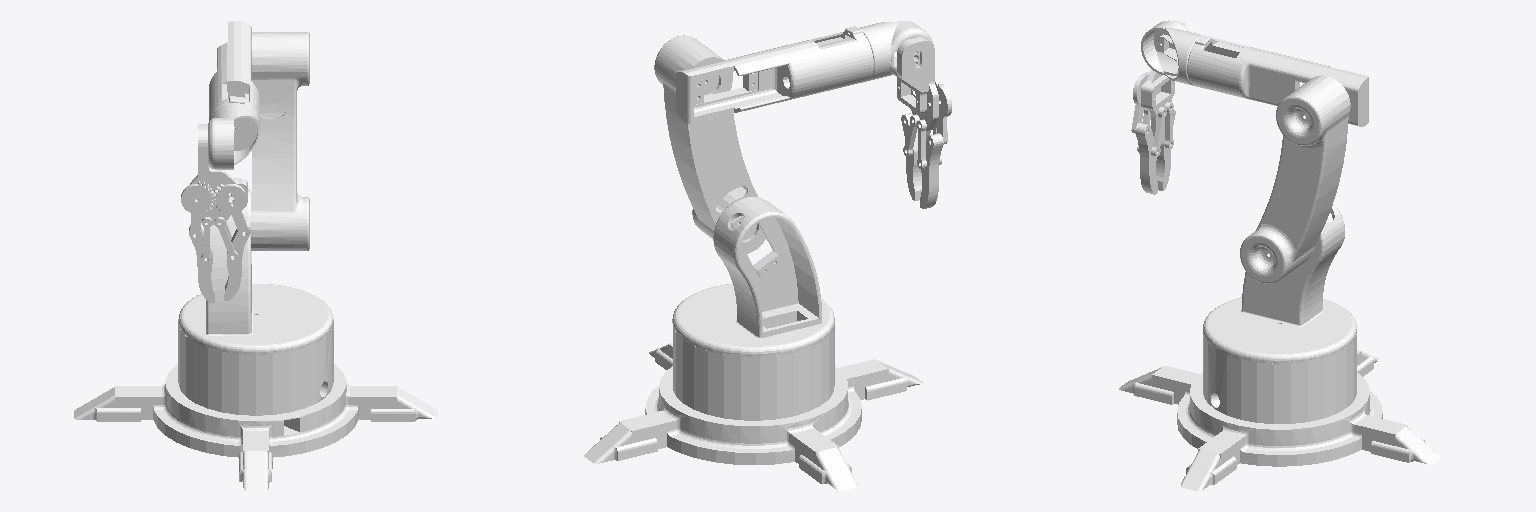
The robot description file, URDF, robot "Small_Robot_Arm_URDF":
<?xml version="1.0" encoding="utf-8"?>
<!-- This URDF was automatically created by SolidWorks to URDF Exporter! Originally created by Stephen Brawner (brawner@gmail.com) 
     Commit Version: 1.6.0-4-g7f85cfe  Build Version: 1.6.7995.38578
     For more information, please see http://wiki.ros.org/sw_urdf_exporter -->
<robot
  name="Small_Robot_Arm_URDF">
  <link
    name="base_link">
    <inertial>
      <origin
        xyz="0.7593 0.88191 1.2952"
        rpy="0 0 0" />
      <mass
        value="0.54304" />
      <inertia
        ixx="0.0012059"
        ixy="2.3772E-06"
        ixz="1.0338E-05"
        iyy="0.0019295"
        iyz="-4.0417E-06"
        izz="0.0012054" />
    </inertial>
    <visual>
      <origin
        xyz="0 0 0"
        rpy="0 0 0" />
      <geometry>
        <mesh
          filename="package://Small_Robot_Arm_URDF/meshes/base_link.STL" />
      </geometry>
      <material
        name="">
        <color
          rgba="1 1 1 1" />
      </material>
    </visual>
    <collision>
      <origin
        xyz="0 0 0"
        rpy="0 0 0" />
      <geometry>
        <mesh
          filename="package://Small_Robot_Arm_URDF/meshes/base_link.STL" />
      </geometry>
    </collision>
  </link>
  <link
    name="Link_1">
    <inertial>
      <origin
        xyz="-0.0019787 0.025514 0.0084214"
        rpy="0 0 0" />
      <mass
        value="0.12114" />
      <inertia
        ixx="0.00021364"
        ixy="2.5644E-05"
        ixz="-2.5895E-07"
        iyy="0.00017429"
        iyz="9.3726E-06"
        izz="0.00020171" />
    </inertial>
    <visual>
      <origin
        xyz="0 0 0"
        rpy="0 0 0" />
      <geometry>
        <mesh
          filename="package://Small_Robot_Arm_URDF/meshes/Link_1.STL" />
      </geometry>
      <material
        name="">
        <color
          rgba="1 1 1 1" />
      </material>
    </visual>
    <collision>
      <origin
        xyz="0 0 0"
        rpy="0 0 0" />
      <geometry>
        <mesh
          filename="package://Small_Robot_Arm_URDF/meshes/Link_1.STL" />
      </geometry>
    </collision>
  </link>
  <joint
    name="Joint_0"
    type="revolute">
    <origin
      xyz="0.76061 -1.2866 0.93518"
      rpy="1.5708 0 -0.52589" />
    <parent
      link="base_link" />
    <child
      link="Link_1" />
    <axis
      xyz="0 1 0" />
    <limit
      lower="0"
      upper="3.14"
      effort="0.864"
      velocity="3" />
  </joint>
  <link
    name="Link_2">
    <inertial>
      <origin
        xyz="0.021403 0.050291 -0.038255"
        rpy="0 0 0" />
      <mass
        value="0.17238" />
      <inertia
        ixx="0.0005914"
        ixy="-1.6628E-06"
        ixz="3.2927E-07"
        iyy="0.00023108"
        iyz="0.00025314"
        izz="0.00041321" />
    </inertial>
    <visual>
      <origin
        xyz="0 0 0"
        rpy="0 0 0" />
      <geometry>
        <mesh
          filename="package://Small_Robot_Arm_URDF/meshes/Link_2.STL" />
      </geometry>
      <material
        name="">
        <color
          rgba="1 1 1 1" />
      </material>
    </visual>
    <collision>
      <origin
        xyz="0 0 0"
        rpy="0 0 0" />
      <geometry>
        <mesh
          filename="package://Small_Robot_Arm_URDF/meshes/Link_2.STL" />
      </geometry>
    </collision>
  </link>
  <joint
    name="Joint_1"
    type="revolute">
    <origin
      xyz="0 0.082426 0"
      rpy="0.36244 0 0" />
    <parent
      link="Link_1" />
    <child
      link="Link_2" />
    <axis
      xyz="1 0 0" />
    <limit
      lower="-1.57"
      upper="1.57"
      effort="0.864"
      velocity="3" />
  </joint>
  <link
    name="Link_3">
    <inertial>
      <origin
        xyz="-0.011229 -0.055225 -0.0015914"
        rpy="0 0 0" />
      <mass
        value="0.070504" />
      <inertia
        ixx="0.00015519"
        ixy="-5.7733E-06"
        ixz="4.4491E-07"
        iyy="1.6277E-05"
        iyz="-1.5317E-06"
        izz="0.0001521" />
    </inertial>
    <visual>
      <origin
        xyz="0 0 0"
        rpy="0 0 0" />
      <geometry>
        <mesh
          filename="package://Small_Robot_Arm_URDF/meshes/Link_3.STL" />
      </geometry>
      <material
        name="">
        <color
          rgba="1 1 1 1" />
      </material>
    </visual>
    <collision>
      <origin
        xyz="0 0 0"
        rpy="0 0 0" />
      <geometry>
        <mesh
          filename="package://Small_Robot_Arm_URDF/meshes/Link_3.STL" />
      </geometry>
    </collision>
  </link>
  <joint
    name="Joint_2"
    type="revolute">
    <origin
      xyz="0 0.10627 -0.074881"
      rpy="-1.931 -0.041344 -0.10931" />
    <parent
      link="Link_2" />
    <child
      link="Link_3" />
    <axis
      xyz="0.99318 0 0.11657" />
    <limit
      lower="0"
      upper="3.14"
      effort="0.864"
      velocity="3" />
  </joint>
  <link
    name="Link_4">
    <inertial>
      <origin
        xyz="0.0065253 0.0048213 3.8508E-06"
        rpy="0 0 0" />
      <mass
        value="0.02047" />
      <inertia
        ixx="7.999E-06"
        ixy="-1.6287E-06"
        ixz="-2.2462E-10"
        iyy="4.9485E-06"
        iyz="1.0257E-09"
        izz="7.2844E-06" />
    </inertial>
    <visual>
      <origin
        xyz="0 0 0"
        rpy="0 0 0" />
      <geometry>
        <mesh
          filename="package://Small_Robot_Arm_URDF/meshes/Link_4.STL" />
      </geometry>
      <material
        name="">
        <color
          rgba="1 1 1 1" />
      </material>
    </visual>
    <collision>
      <origin
        xyz="0 0 0"
        rpy="0 0 0" />
      <geometry>
        <mesh
          filename="package://Small_Robot_Arm_URDF/meshes/Link_4.STL" />
      </geometry>
    </collision>
  </link>
  <joint
    name="Joint_3"
    type="revolute">
    <origin
      xyz="-0.013022 -0.13575 -0.0015284"
      rpy="0 0.11684 -3.1416" />
    <parent
      link="Link_3" />
    <child
      link="Link_4" />
    <axis
      xyz="0 1 0" />
    <limit
      lower="0"
      upper="3.14"
      effort="0.176"
      velocity="3" />
  </joint>
  <link
    name="Gripper_Base">
    <inertial>
      <origin
        xyz="-0.018023 -0.023551 0.025293"
        rpy="0 0 0" />
      <mass
        value="0.016036" />
      <inertia
        ixx="7.3924E-06"
        ixy="1.4571E-06"
        ixz="-3.5735E-07"
        iyy="2.6117E-06"
        iyz="1.3914E-06"
        izz="8.2781E-06" />
    </inertial>
    <visual>
      <origin
        xyz="0 0 0"
        rpy="0 0 0" />
      <geometry>
        <mesh
          filename="package://Small_Robot_Arm_URDF/meshes/Gripper_Base.STL" />
      </geometry>
      <material
        name="">
        <color
          rgba="1 1 1 1" />
      </material>
    </visual>
    <collision>
      <origin
        xyz="0 0 0"
        rpy="0 0 0" />
      <geometry>
        <mesh
          filename="package://Small_Robot_Arm_URDF/meshes/Gripper_Base.STL" />
      </geometry>
    </collision>
  </link>
  <joint
    name="Gripper_Base_Joint"
    type="revolute">
    <origin
      xyz="0 0 0"
      rpy="1.5708 0 3.1416" />
    <parent
      link="Link_4" />
    <child
      link="Gripper_Base" />
    <axis
      xyz="1 0 0" />
    <limit
      lower="0"
      upper="3.14"
      effort="0.176"
      velocity="3" />
  </joint>
  <link
    name="Gear_1">
    <inertial>
      <origin
        xyz="0.0055801 0.00060198 0.00099206"
        rpy="0 0 0" />
      <mass
        value="0.0026944" />
      <inertia
        ixx="9.1847E-08"
        ixy="9.4415E-09"
        ixz="5.9164E-22"
        iyy="3.7147E-07"
        iyz="1.3235E-23"
        izz="4.5613E-07" />
    </inertial>
    <visual>
      <origin
        xyz="0 0 0"
        rpy="0 0 0" />
      <geometry>
        <mesh
          filename="package://Small_Robot_Arm_URDF/meshes/Gear_1.STL" />
      </geometry>
      <material
        name="">
        <color
          rgba="1 1 1 1" />
      </material>
    </visual>
    <collision>
      <origin
        xyz="0 0 0"
        rpy="0 0 0" />
      <geometry>
        <mesh
          filename="package://Small_Robot_Arm_URDF/meshes/Gear_1.STL" />
      </geometry>
    </collision>
  </link>
  <joint
    name="Gear_1_Joint"
    type="revolute">
    <origin
      xyz="-0.029 -0.038 0.037984"
      rpy="0 0 -1.6043" />
    <parent
      link="Gripper_Base" />
    <child
      link="Gear_1" />
    <axis
      xyz="0 0 1" />
    <limit
      lower="0"
      upper="1.57"
      effort="0"
      velocity="0" />
    <mimic
      joint="Gear_2_Joint"
      multiplier="1"
      offset="0" />
  </joint>
  <link
    name="Finger_1">
    <inertial>
      <origin
        xyz="0.03189 0.0095132 2.2592E-08"
        rpy="0 0 0" />
      <mass
        value="0.0055054" />
      <inertia
        ixx="1.8674E-07"
        ixy="-3.8088E-07"
        ixz="-6.6232E-12"
        iyy="1.6277E-06"
        iyz="1.2684E-11"
        izz="1.7482E-06" />
    </inertial>
    <visual>
      <origin
        xyz="0 0 0"
        rpy="0 0 0" />
      <geometry>
        <mesh
          filename="package://Small_Robot_Arm_URDF/meshes/Finger_1.STL" />
      </geometry>
      <material
        name="">
        <color
          rgba="1 1 1 1" />
      </material>
    </visual>
    <collision>
      <origin
        xyz="0 0 0"
        rpy="0 0 0" />
      <geometry>
        <mesh
          filename="package://Small_Robot_Arm_URDF/meshes/Finger_1.STL" />
      </geometry>
    </collision>
  </link>
  <joint
    name="Finger_1_Joint"
    type="revolute">
    <origin
      xyz="0.024112 0.0024378 -0.0052579"
      rpy="3.1416 0 0.43342" />
    <parent
      link="Gear_1" />
    <child
      link="Finger_1" />
    <axis
      xyz="0 0 0" />
    <limit
      lower="-1.57"
      upper="1.57"
      effort="0"
      velocity="0" />
    <mimic
      joint="Gear_2_Joint"
      multiplier="1"
      offset="0" />
  </joint>
  <link
    name="Gear_2">
    <inertial>
      <origin
        xyz="-0.0057816 -0.00014626 0.00099206"
        rpy="0 0 0" />
      <mass
        value="0.0025954" />
      <inertia
        ixx="9.8592E-08"
        ixy="-4.4759E-08"
        ixz="-2.0779E-21"
        iyy="3.5606E-07"
        iyz="-1.3367E-21"
        izz="4.4773E-07" />
    </inertial>
    <visual>
      <origin
        xyz="0 0 0"
        rpy="0 0 0" />
      <geometry>
        <mesh
          filename="package://Small_Robot_Arm_URDF/meshes/Gear_2.STL" />
      </geometry>
      <material
        name="">
        <color
          rgba="1 1 1 1" />
      </material>
    </visual>
    <collision>
      <origin
        xyz="0 0 0"
        rpy="0 0 0" />
      <geometry>
        <mesh
          filename="package://Small_Robot_Arm_URDF/meshes/Gear_2.STL" />
      </geometry>
    </collision>
  </link>
  <joint
    name="Gear_2_Joint"
    type="revolute">
    <origin
      xyz="-0.0021 -0.038 0.037984"
      rpy="0 0 1.7727" />
    <parent
      link="Gripper_Base" />
    <child
      link="Gear_2" />
    <axis
      xyz="0 0 1" />
    <limit
      lower="-1.57"
      upper="0"
      effort="0.144"
      velocity="3" />
  </joint>
  <link
    name="Finger_2">
    <inertial>
      <origin
        xyz="0.03189 0.0095132 2.2592E-08"
        rpy="0 0 0" />
      <mass
        value="0.0055054" />
      <inertia
        ixx="1.8674E-07"
        ixy="-3.8088E-07"
        ixz="-6.6232E-12"
        iyy="1.6277E-06"
        iyz="1.2685E-11"
        izz="1.7482E-06" />
    </inertial>
    <visual>
      <origin
        xyz="0 0 0"
        rpy="0 0 0" />
      <geometry>
        <mesh
          filename="package://Small_Robot_Arm_URDF/meshes/Finger_2.STL" />
      </geometry>
      <material
        name="">
        <color
          rgba="1 1 1 1" />
      </material>
    </visual>
    <collision>
      <origin
        xyz="0 0 0"
        rpy="0 0 0" />
      <geometry>
        <mesh
          filename="package://Small_Robot_Arm_URDF/meshes/Finger_2.STL" />
      </geometry>
    </collision>
  </link>
  <joint
    name="Finger_2_Joint"
    type="revolute">
    <origin
      xyz="-0.023525 -0.0027739 -0.0052579"
      rpy="0 0 2.5324" />
    <parent
      link="Gear_2" />
    <child
      link="Finger_2" />
    <axis
      xyz="0 0 0" />
    <limit
      lower="-1.57"
      upper="1.57"
      effort="0"
      velocity="0" />
    <mimic
      joint="Gear_2_Joint"
      multiplier="1"
      offset="0" />
  </joint>
  <link
    name="Gripper_Base_Link_1">
    <inertial>
      <origin
        xyz="0.0155 -5.7954E-14 0.0040922"
        rpy="0 0 0" />
      <mass
        value="0.0016295" />
      <inertia
        ixx="7.4103E-09"
        ixy="-8.265E-23"
        ixz="1.7915E-21"
        iyy="2.0996E-07"
        iyz="5.9557E-23"
        izz="2.1303E-07" />
    </inertial>
    <visual>
      <origin
        xyz="0 0 0"
        rpy="0 0 0" />
      <geometry>
        <mesh
          filename="package://Small_Robot_Arm_URDF/meshes/Gripper_Base_Link_1.STL" />
      </geometry>
      <material
        name="">
        <color
          rgba="1 1 1 1" />
      </material>
    </visual>
    <collision>
      <origin
        xyz="0 0 0"
        rpy="0 0 0" />
      <geometry>
        <mesh
          filename="package://Small_Robot_Arm_URDF/meshes/Gripper_Base_Link_1.STL" />
      </geometry>
    </collision>
  </link>
  <joint
    name="Gripper_Base_Link_1_Joint"
    type="revolute">
    <origin
      xyz="-0.021 -0.058 0.028634"
      rpy="0 0 -1.5857" />
    <parent
      link="Gripper_Base" />
    <child
      link="Gripper_Base_Link_1" />
    <axis
      xyz="0 0 1" />
    <limit
      lower="0"
      upper="1.57"
      effort="0"
      velocity="0" />
    <mimic
      joint="Gear_2_Joint"
      multiplier="1"
      offset="0" />
  </joint>
  <link
    name="Gripper_Base_Link_2">
    <inertial>
      <origin
        xyz="0.015359 5.0318E-05 0.0040922"
        rpy="0 0 0" />
      <mass
        value="0.0016295" />
      <inertia
        ixx="7.4103E-09"
        ixy="-2.3954E-21"
        ixz="5.995E-22"
        iyy="2.0996E-07"
        iyz="3.3087E-23"
        izz="2.1303E-07" />
    </inertial>
    <visual>
      <origin
        xyz="0 0 0"
        rpy="0 0 0" />
      <geometry>
        <mesh
          filename="package://Small_Robot_Arm_URDF/meshes/Gripper_Base_Link_2.STL" />
      </geometry>
      <material
        name="">
        <color
          rgba="1 1 1 1" />
      </material>
    </visual>
    <collision>
      <origin
        xyz="0 0 0"
        rpy="0 0 0" />
      <geometry>
        <mesh
          filename="package://Small_Robot_Arm_URDF/meshes/Gripper_Base_Link_2.STL" />
      </geometry>
    </collision>
  </link>
  <joint
    name="Gripper_Base_Link_2_Joint"
    type="revolute">
    <origin
      xyz="-0.011001 -0.058149 0.028634"
      rpy="0 0 -1.2345" />
    <parent
      link="Gripper_Base" />
    <child
      link="Gripper_Base_Link_2" />
    <axis
      xyz="0 0 1" />
    <limit
      lower="-1.57"
      upper="0"
      effort="0"
      velocity="0" />
    <mimic
      joint="Gear_2_Joint"
      multiplier="1"
      offset="0" />
  </joint>
</robot>

--- Render facts (derived) ---
The picture shows the robot from 3 angles, left to right: view 1: azimuth 30°, elevation 25°; view 2: azimuth 150°, elevation 25°; view 3: azimuth 270°, elevation 25°; orthographic projection.
Model Small_Robot_Arm_URDF with 12 links and 11 joints (11 revolute), rooted at base_link, posed all joints at 0.
Links seen in each view (by area): view 1: base_link, Link_2, Link_1, Link_3, Link_4, Gripper_Base, Gear_1, Gear_2, Finger_2, Finger_1; view 2: base_link, Link_1, Link_3, Link_2, Gripper_Base, Link_4, Finger_1, Finger_2, Gear_1; view 3: base_link, Link_2, Link_1, Link_3, Link_4, Gripper_Base, Finger_2, Finger_1.
Link boxes in pixels (x1,y1,x2,y2): base_link: (74, 322, 437, 491); Link_2: (251, 32, 309, 250); Link_1: (178, 189, 333, 354); Link_3: (209, 21, 259, 120); Link_4: (208, 103, 259, 169); Gripper_Base: (190, 124, 247, 224); Gear_1: (181, 181, 215, 240); Gear_2: (213, 184, 249, 238); Finger_2: (224, 222, 250, 300); Finger_1: (189, 227, 214, 302); base_link: (584, 325, 923, 490); Link_1: (672, 197, 834, 356); Link_3: (676, 26, 873, 123); Link_2: (654, 35, 765, 253); Gripper_Base: (897, 37, 938, 130); Link_4: (859, 21, 933, 80); Finger_1: (920, 133, 943, 208); Finger_2: (901, 113, 921, 200); Gear_1: (935, 81, 951, 144); base_link: (1119, 334, 1440, 491); Link_2: (1240, 75, 1350, 283); Link_1: (1203, 204, 1356, 363); Link_3: (1187, 35, 1368, 126); Link_4: (1141, 20, 1200, 85); Gripper_Base: (1141, 21, 1195, 117); Finger_2: (1135, 123, 1157, 194); Finger_1: (1156, 109, 1175, 190).
Bounding box of the posed robot: 0.2509 × 0.2509 × 0.3065 m (x, y, z).
Meshes: 12 distinct files referenced, 12 mesh visuals loaded (12 binary STL).
